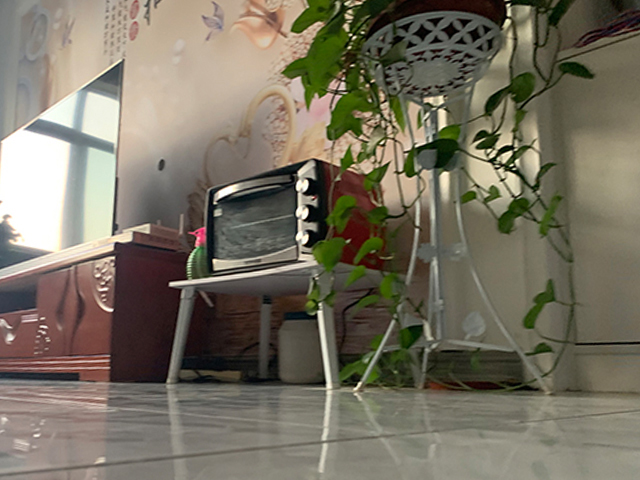cabinet: (1, 241, 205, 383)
table: (162, 259, 421, 390)
